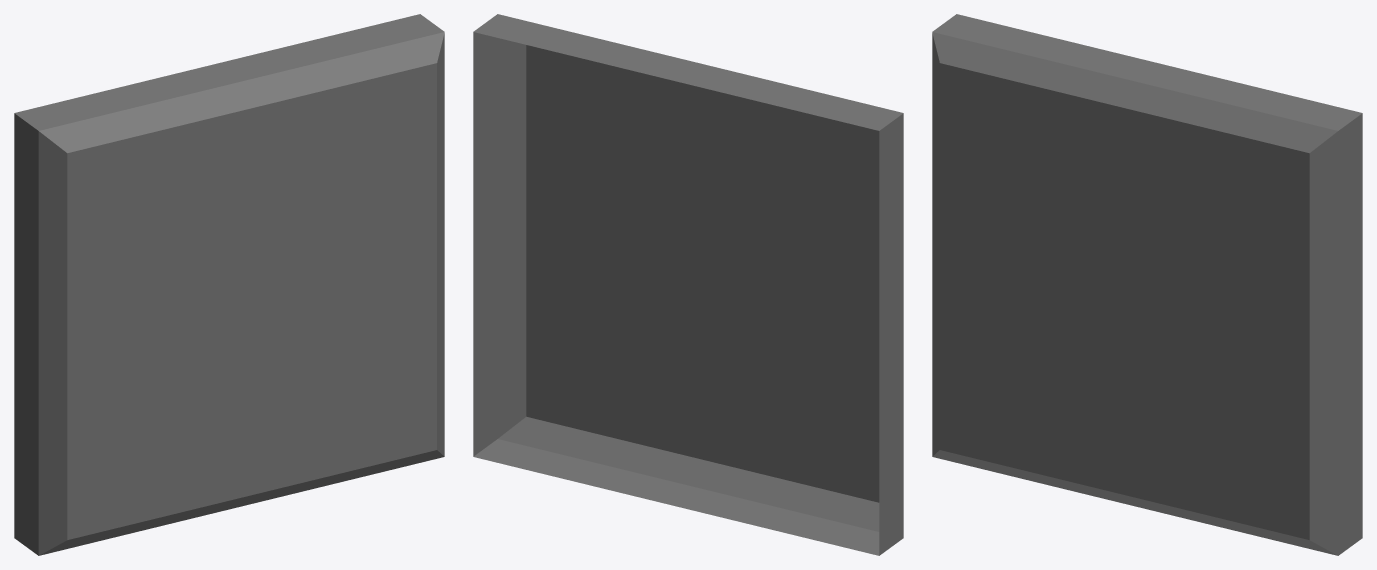
Rendered from HeadTrapBase_1_Stone.fbx.
3 views of the same model, side by side, from view 1: azimuth 30°, elevation 25°; view 2: azimuth 150°, elevation 25°; view 3: azimuth 330°, elevation 25° (orthographic).
Parts seen in each view (by area): view 1: HeadTrapBase_1_Stone; view 2: HeadTrapBase_1_Stone; view 3: HeadTrapBase_1_Stone.
Boxes of the visible parts, x1,y1,x2,y2 form: HeadTrapBase_1_Stone: (14, 14, 444, 555); HeadTrapBase_1_Stone: (473, 14, 903, 555); HeadTrapBase_1_Stone: (932, 14, 1362, 555).
Bounding box in the file's own units: 56.56 × 56.56 × 8.44.
